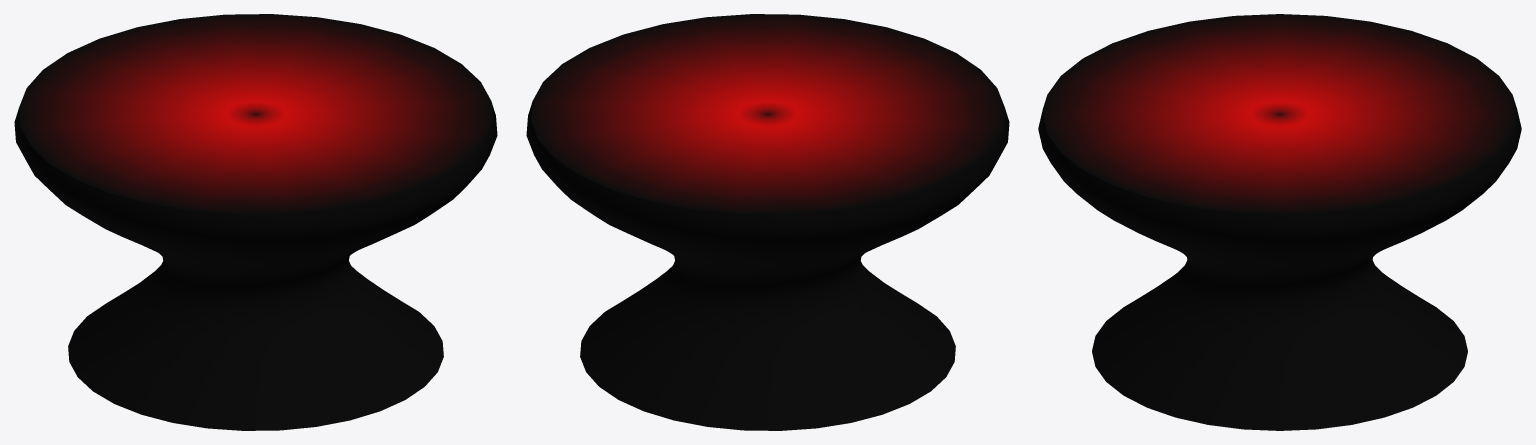
Rendered from SM_DrumA.fbx.
3 views of the same model, side by side, from view 1: azimuth 30°, elevation 25°; view 2: azimuth 150°, elevation 25°; view 3: azimuth 270°, elevation 25° (orthographic).
Parts seen in each view (by area): view 1: transform2; view 2: transform2; view 3: transform2.
Boxes of the visible parts, box(x1,y1,x2,y2) form: transform2: box(14, 14, 497, 430); transform2: box(526, 14, 1009, 430); transform2: box(1038, 14, 1521, 430).
Size of the model in its own units: 185 by 100 by 185.
